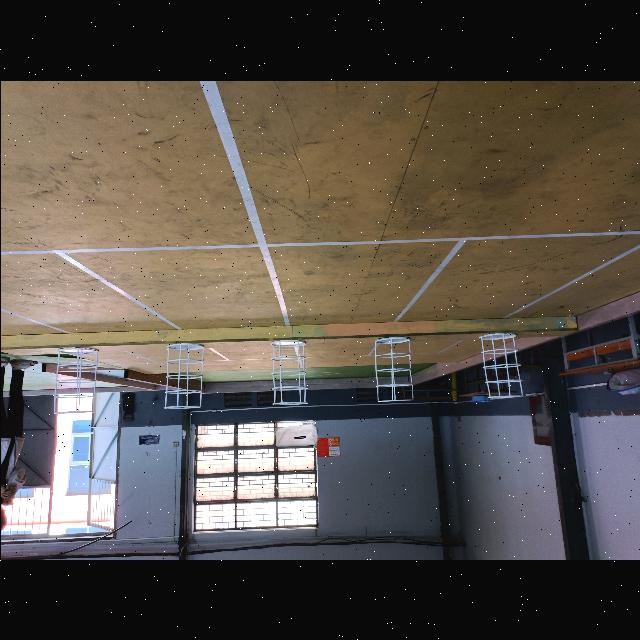S: (477, 330, 526, 399), (50, 347, 98, 414), (162, 341, 204, 411), (268, 338, 310, 407), (372, 335, 414, 404)
